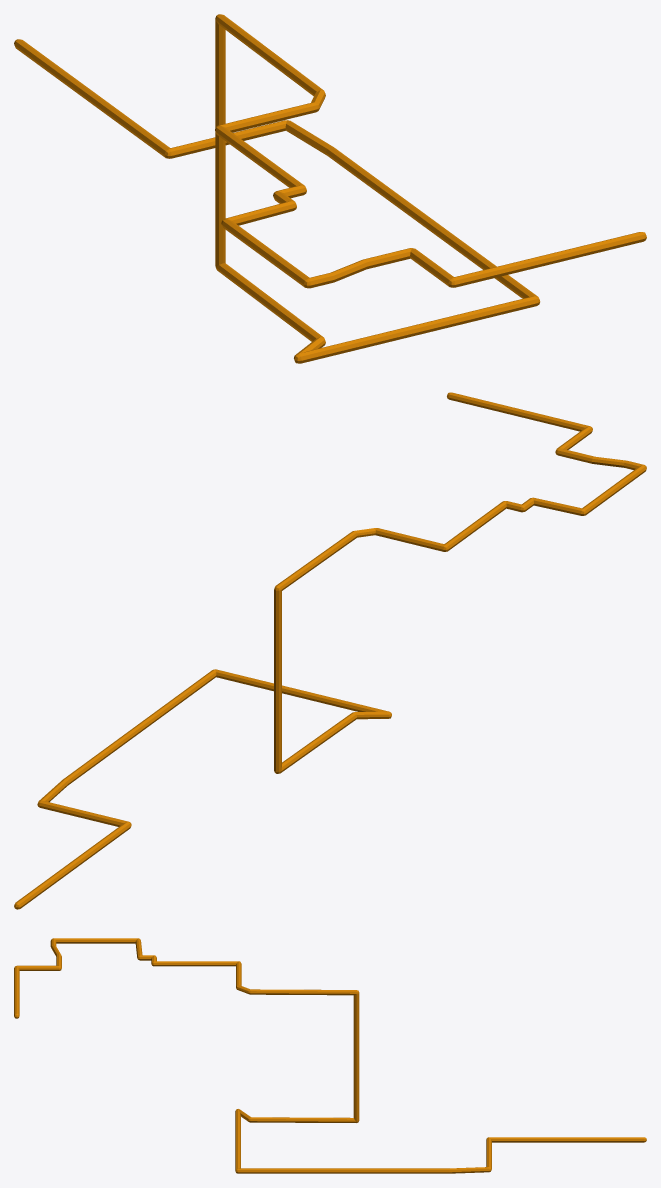
3 views of the same model, one above another, from view 1: azimuth 30°, elevation 25°; view 2: azimuth 150°, elevation 25°; view 3: azimuth 270°, elevation 25° (orthographic). The views are drawn at different scales.
Size of the model in its own units: 878 by 520 by 2244.
